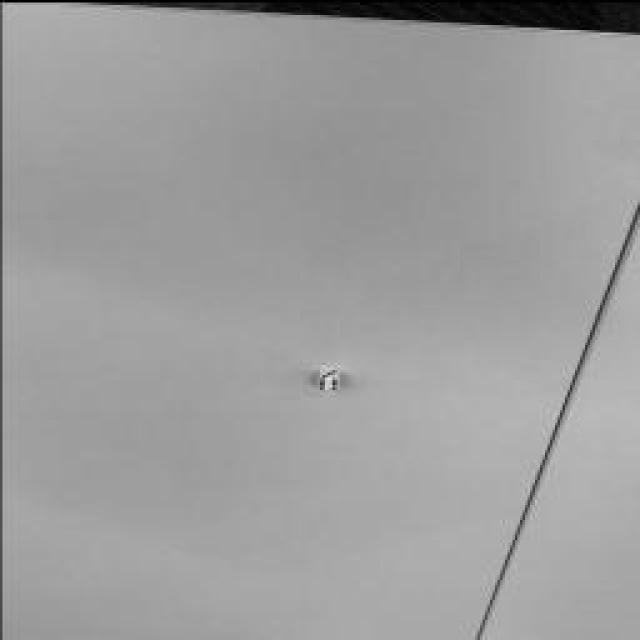dice_6: (318, 375, 338, 387)
